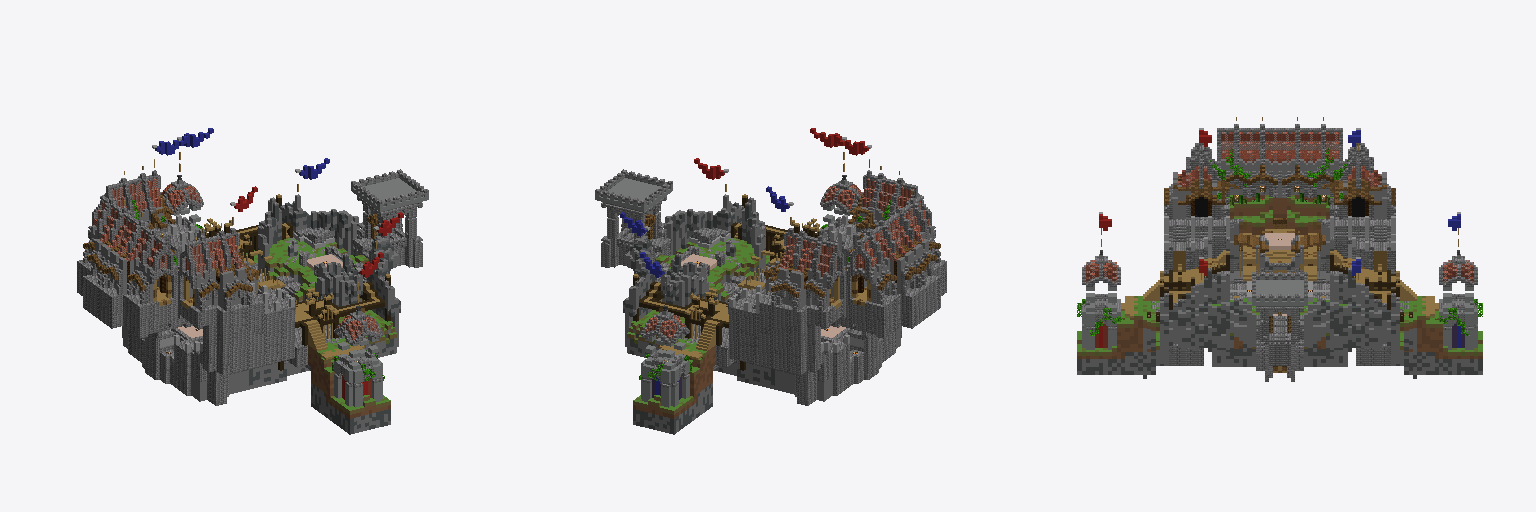
3 renders of one model, left to right at view 1: azimuth 30°, elevation 25°; view 2: azimuth 150°, elevation 25°; view 3: azimuth 270°, elevation 25°, orthographic.
Size of the model in its own units: 84 by 52 by 93.
Materials: 52 (21 with a texture image).